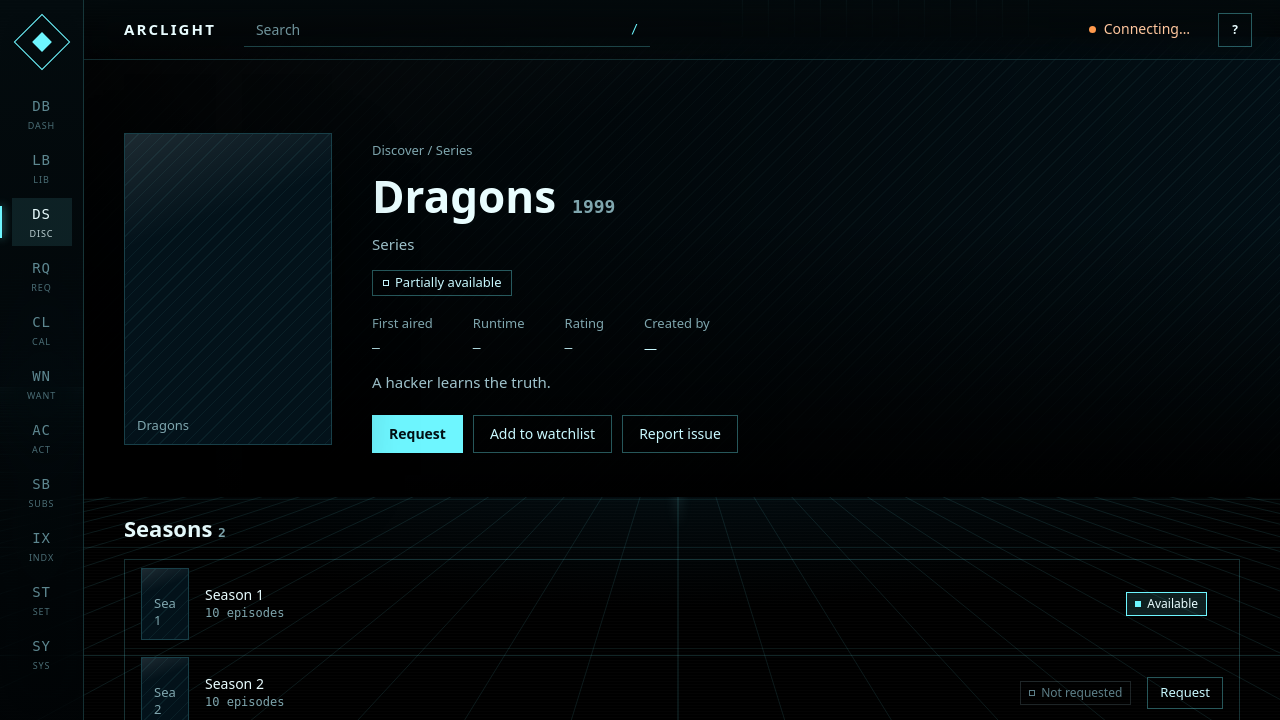
Test case: discover › title page offers Request and shows season status in the dialog
Expected: the text "Partially available" is shown, [372,270,512,296]
Click the button "Request" below "A hacker learns the truth.".
click(417, 434)  # box [372,415,463,453]
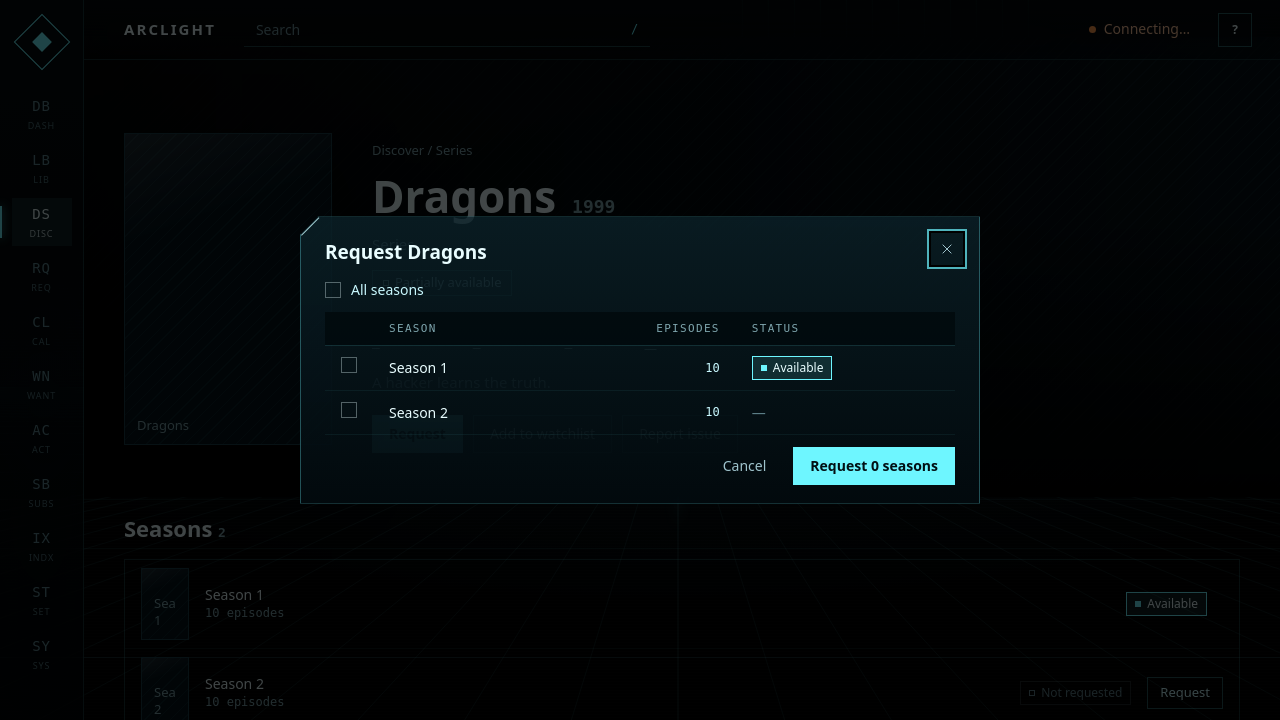
Now the checkbox named "Season 1" is disabled, box [341,357,357,373]
Now the checkbox named "Season 2" is enabled, box [341,402,357,418]
